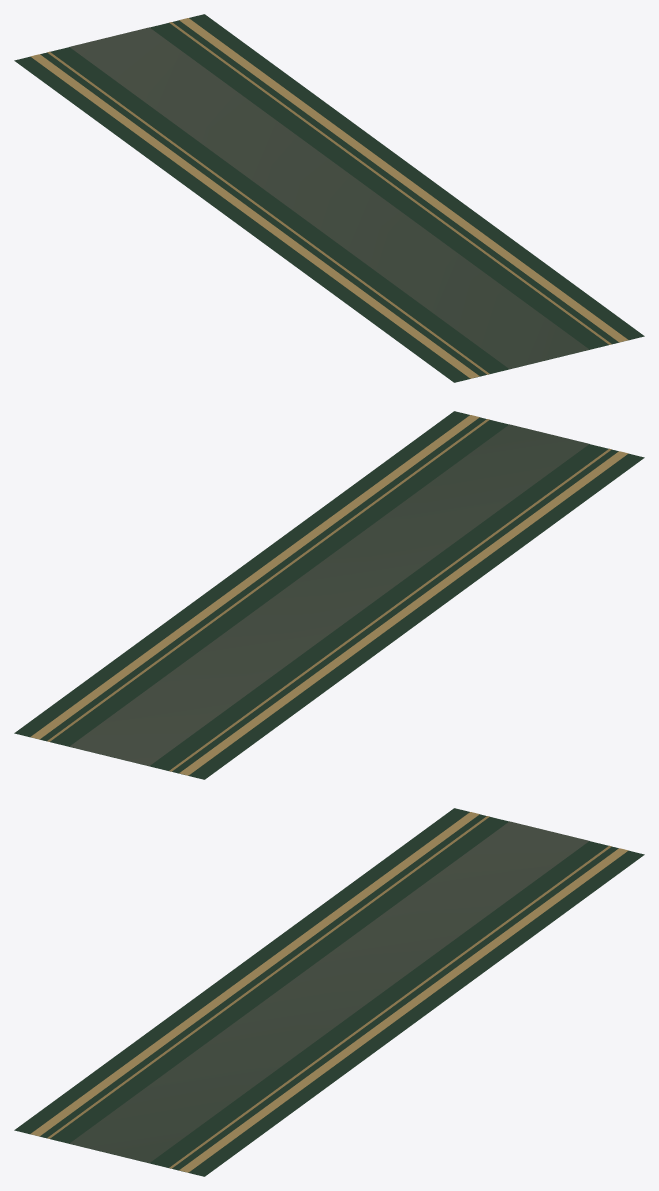
The model's file is library.runner.green.glb.
3 renders of one model, top to bottom at view 1: azimuth 30°, elevation 25°; view 2: azimuth 150°, elevation 25°; view 3: azimuth 330°, elevation 25°, orthographic.
Visible parts, largest first — view 1: library_runner_green; view 2: library_runner_green; view 3: library_runner_green.
Part boxes in pixels (x1,y1,x2,y2): library_runner_green: (14,14,644,382); library_runner_green: (14,411,644,779); library_runner_green: (14,808,644,1176).
Size of what is drawn, in the model's own units: 2 by 0.002 by 8.
